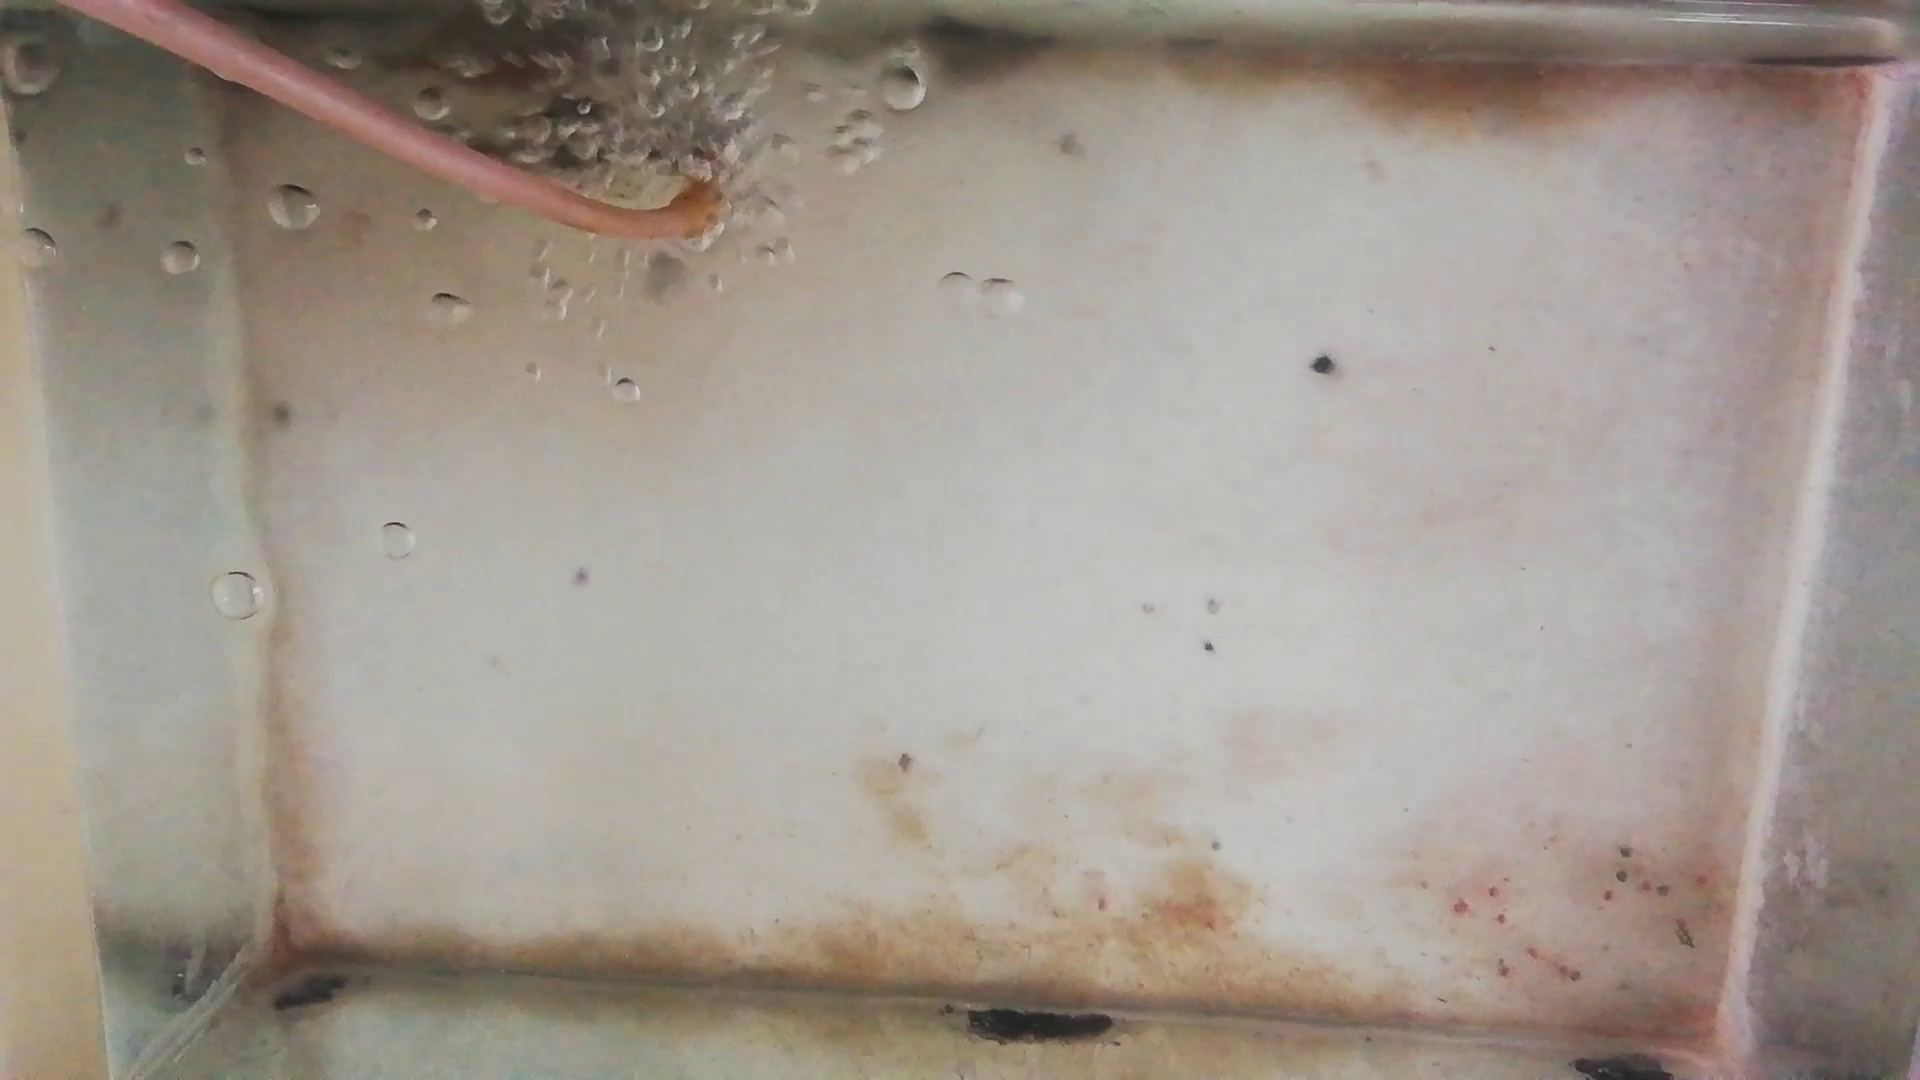fish: (455, 104, 665, 169), (363, 34, 585, 94)
